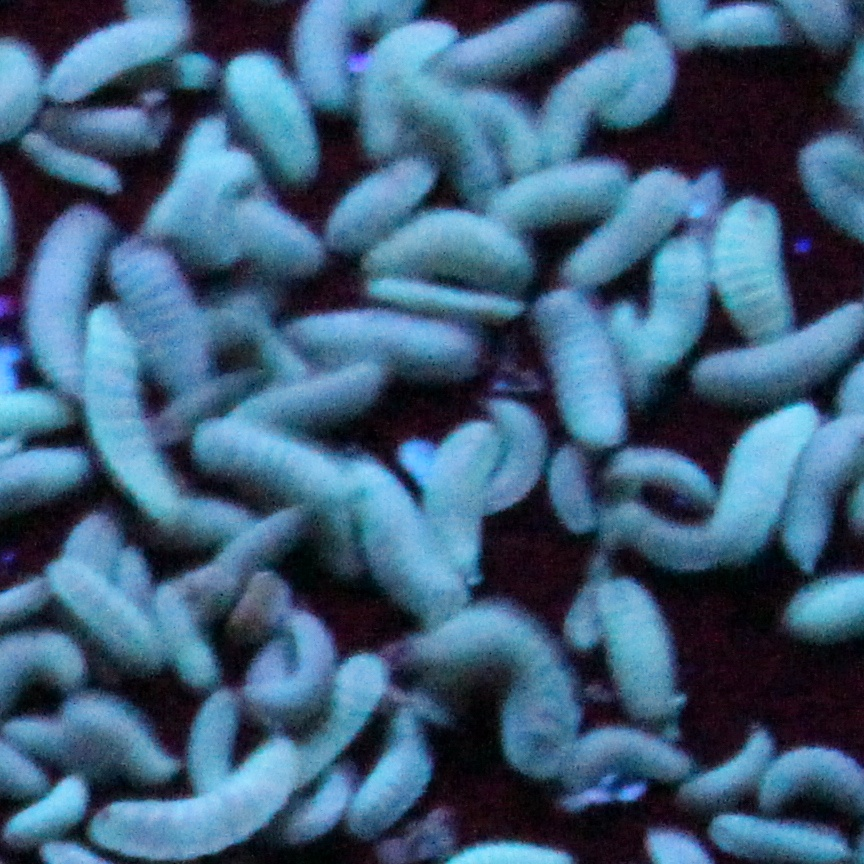larve: (455, 619, 565, 767), (584, 586, 691, 716), (531, 303, 622, 446), (65, 538, 161, 668), (123, 245, 202, 393), (361, 475, 443, 609), (718, 413, 788, 559), (26, 219, 90, 377), (62, 695, 178, 782), (719, 190, 786, 340), (293, 317, 481, 366), (99, 793, 251, 851), (249, 369, 391, 429), (216, 433, 336, 500), (236, 53, 303, 170), (357, 710, 420, 832), (448, 9, 589, 63), (485, 165, 629, 215), (93, 395, 156, 506), (56, 29, 158, 93), (646, 253, 706, 357), (703, 343, 806, 397), (611, 453, 711, 507), (575, 730, 689, 776), (372, 275, 521, 310), (543, 449, 601, 537), (340, 155, 406, 232), (416, 86, 483, 159), (249, 660, 323, 721), (25, 142, 119, 190), (795, 462, 835, 566), (549, 70, 599, 153), (398, 232, 506, 270), (451, 430, 478, 580), (246, 210, 312, 266), (771, 755, 862, 795), (192, 699, 230, 789), (492, 90, 539, 160), (236, 579, 278, 653), (168, 601, 201, 693), (625, 39, 662, 119), (312, 764, 353, 836), (636, 177, 679, 233), (501, 402, 525, 499), (733, 15, 799, 40)
